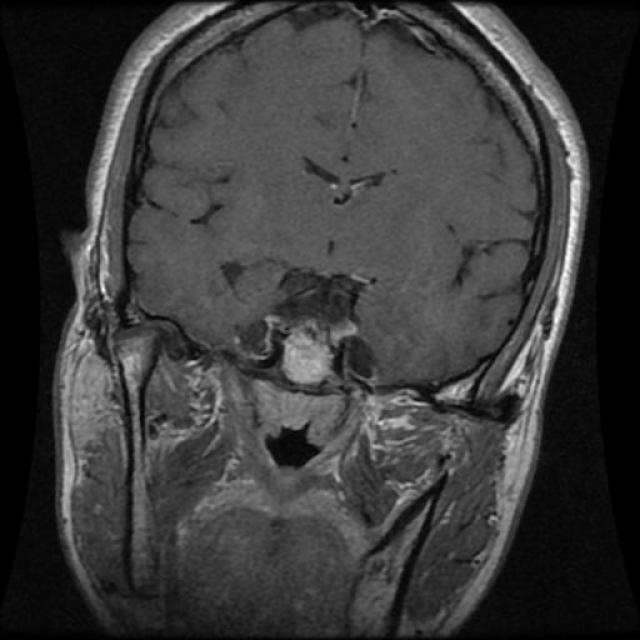pituitary: (258, 303, 358, 393)
